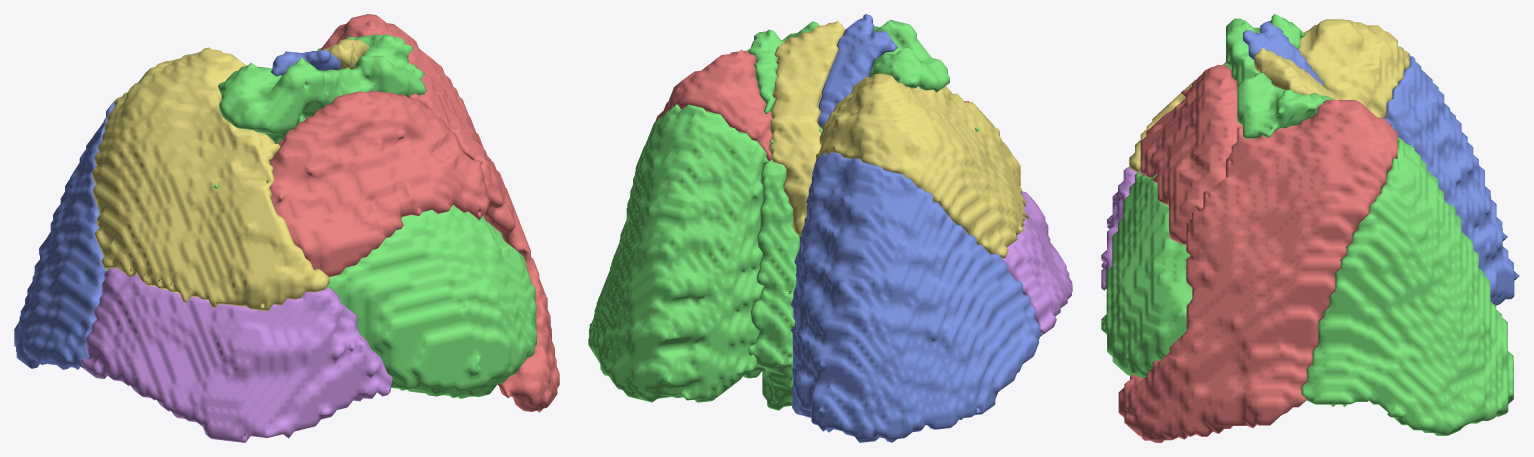
Rendered from regions.glb.
3 views of the same model, side by side, from view 1: azimuth 30°, elevation 25°; view 2: azimuth 150°, elevation 25°; view 3: azimuth 270°, elevation 25° (orthographic). The views are drawn at different scales.
Visible parts, largest first — view 1: FETAL_QA.PARCEL_04, FETAL_QA.PARCEL_07, FETAL_QA.PARCEL_05, FETAL_QA.PARCEL_06, FETAL_QA.PARCEL_03, FETAL_QA.PARCEL_01, FETAL_QA.PARCEL_08, FETAL_QA.PARCEL_09; view 2: FETAL_QA.PARCEL_03, FETAL_QA.PARCEL_02, FETAL_QA.PARCEL_04, FETAL_QA.PARCEL_07, FETAL_QA.PARCEL_09, FETAL_QA.PARCEL_01, FETAL_QA.PARCEL_05, FETAL_QA.PARCEL_08; view 3: FETAL_QA.PARCEL_01, FETAL_QA.PARCEL_02, FETAL_QA.PARCEL_07, FETAL_QA.PARCEL_03, FETAL_QA.PARCEL_06, FETAL_QA.PARCEL_04, FETAL_QA.PARCEL_09, FETAL_QA.PARCEL_08, FETAL_QA.PARCEL_05.
Part boxes in pixels (box(x1,y1,x2,y2)): FETAL_QA.PARCEL_04: box(92, 47, 329, 311); FETAL_QA.PARCEL_07: box(214, 34, 536, 398); FETAL_QA.PARCEL_05: box(81, 267, 392, 442); FETAL_QA.PARCEL_06: box(267, 91, 489, 276); FETAL_QA.PARCEL_03: box(14, 96, 121, 369); FETAL_QA.PARCEL_01: box(320, 14, 559, 412); FETAL_QA.PARCEL_08: box(271, 50, 340, 76); FETAL_QA.PARCEL_09: box(323, 39, 369, 69); FETAL_QA.PARCEL_03: box(790, 151, 1042, 442); FETAL_QA.PARCEL_02: box(588, 104, 768, 402); FETAL_QA.PARCEL_04: box(816, 73, 1028, 259); FETAL_QA.PARCEL_07: box(747, 19, 979, 410); FETAL_QA.PARCEL_09: box(769, 20, 844, 237); FETAL_QA.PARCEL_01: box(655, 49, 772, 161); FETAL_QA.PARCEL_05: box(1003, 191, 1072, 334); FETAL_QA.PARCEL_08: box(818, 14, 897, 128); FETAL_QA.PARCEL_01: box(1118, 99, 1397, 442); FETAL_QA.PARCEL_02: box(1301, 137, 1513, 435); FETAL_QA.PARCEL_07: box(1101, 14, 1335, 378); FETAL_QA.PARCEL_03: box(1384, 55, 1519, 305); FETAL_QA.PARCEL_06: box(1140, 65, 1242, 244); FETAL_QA.PARCEL_04: box(1129, 19, 1409, 172); FETAL_QA.PARCEL_09: box(1254, 48, 1343, 99); FETAL_QA.PARCEL_08: box(1243, 21, 1323, 85); FETAL_QA.PARCEL_05: box(1101, 167, 1140, 290).
Size of the model in its own units: 0.0623 by 0.0501 by 0.0548.
